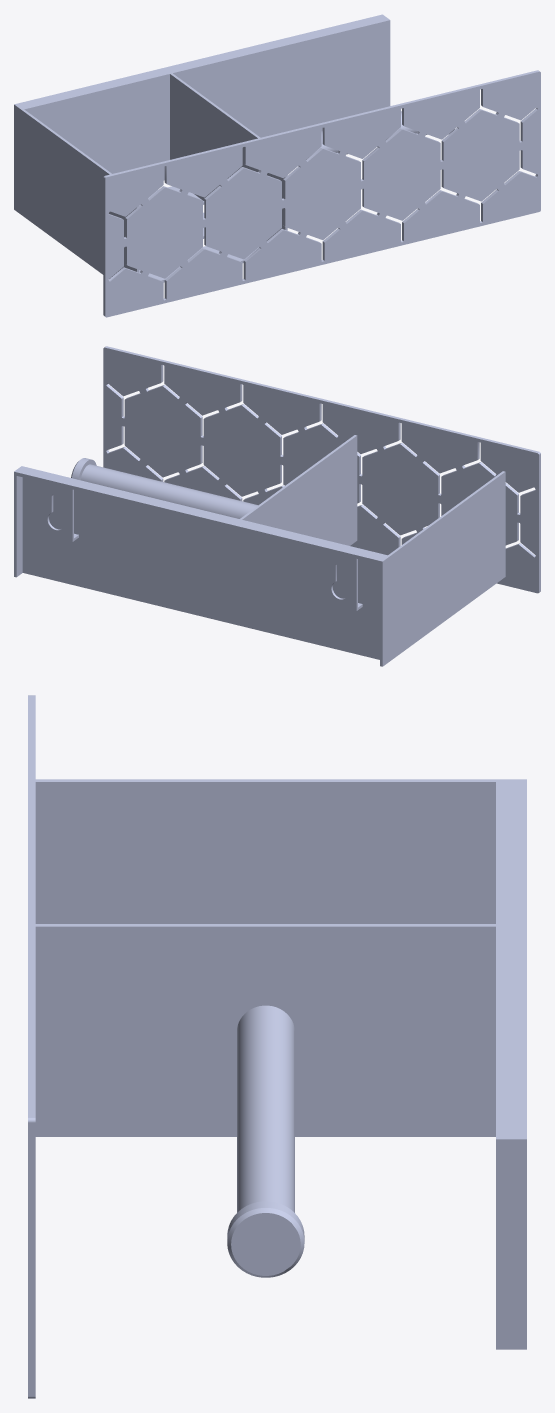
The model's file is bee-duetto.13cd32fefa.glb.
3 views of the same model, one above another, from view 1: azimuth 30°, elevation 25°; view 2: azimuth 150°, elevation 25°; view 3: azimuth 270°, elevation 25° (orthographic). The views are drawn at different scales.
Visible parts, largest first — view 1: NAUO1; view 2: NAUO1; view 3: NAUO1.
Part boxes in pixels (x1,y1,x2,y2): NAUO1: (14, 14, 540, 317); NAUO1: (14, 346, 540, 666); NAUO1: (28, 695, 526, 1398).
Bounding box in the file's own units: 0.26 × 0.08 × 0.129.
